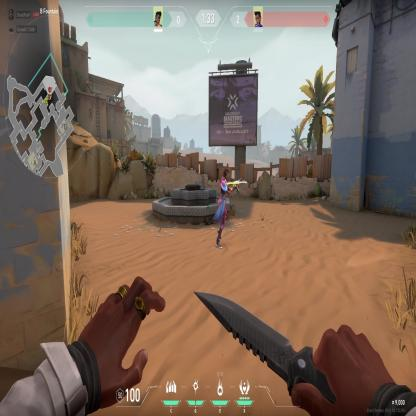enemy: (214, 165, 231, 252)
